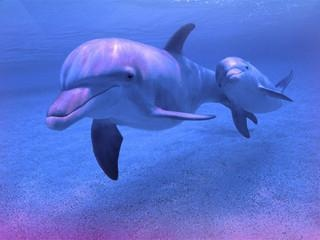fish: (45, 25, 259, 181), (213, 54, 296, 139)
